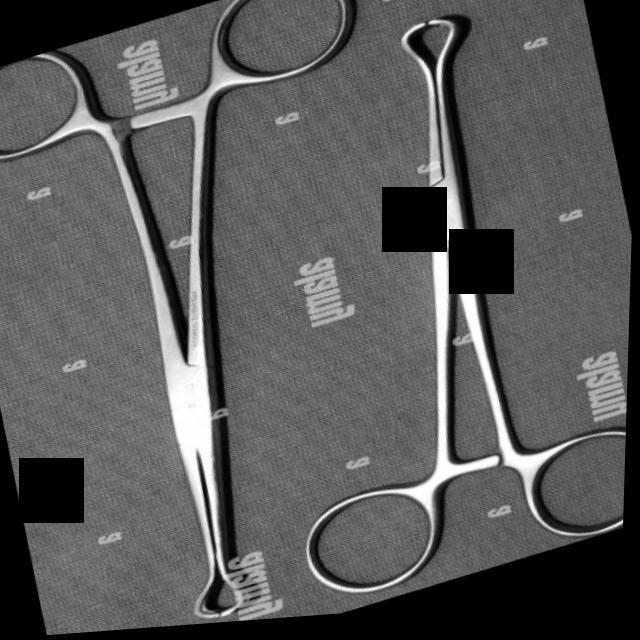Babcock Forceps: (0, 0, 481, 640), (191, 0, 640, 628)
